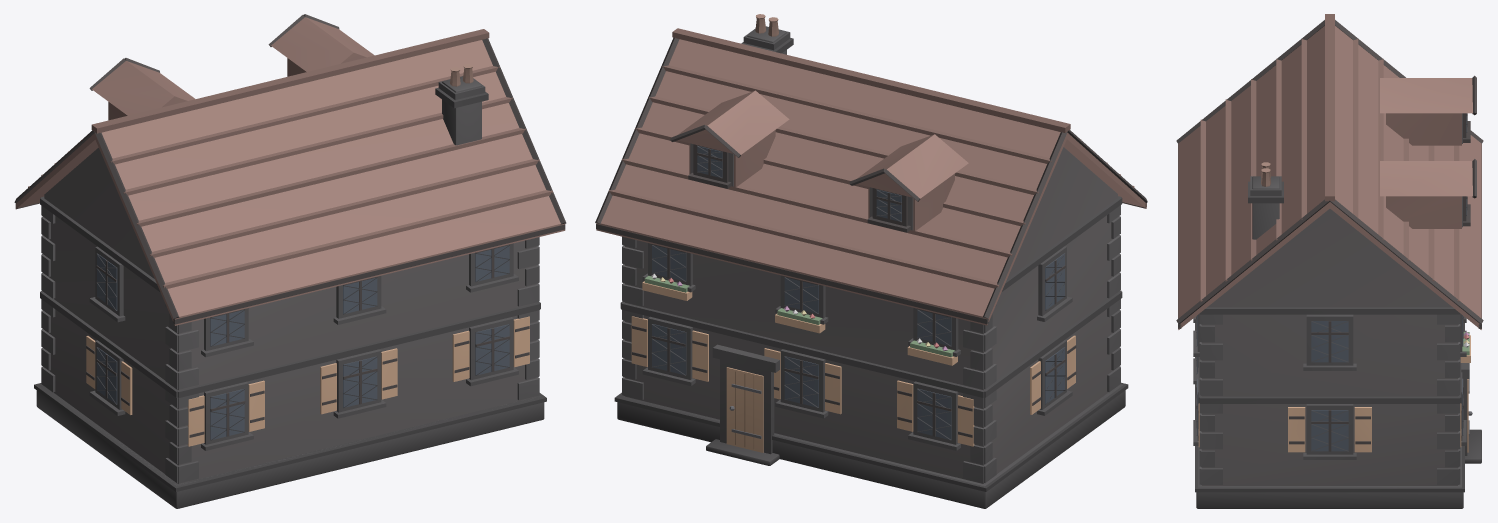
The model's file is hall_cinder.gltf.
3 views of the same model, side by side, from view 1: azimuth 30°, elevation 25°; view 2: azimuth 150°, elevation 25°; view 3: azimuth 270°, elevation 25° (orthographic). The views are drawn at different scales.
Visible parts, largest first — view 1: Body; view 2: Body; view 3: Body.
Part boxes in pixels (<box>): Body: <box>14,14,566,508</box>; Body: <box>595,14,1147,508</box>; Body: <box>1176,14,1483,508</box>.
Bounding box in the file's own units: 10.97 × 8.99 × 7.81.
